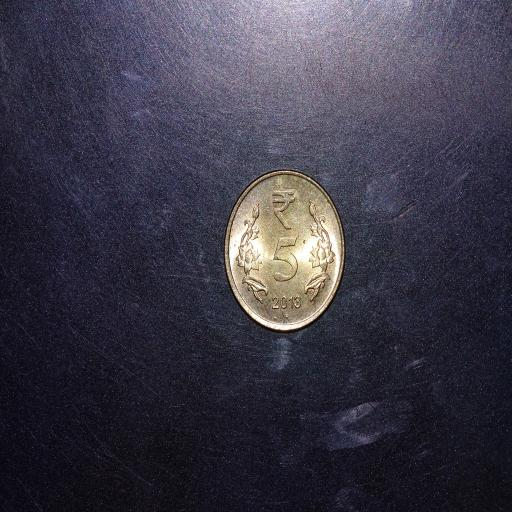rupee5: (223, 170, 348, 330)
